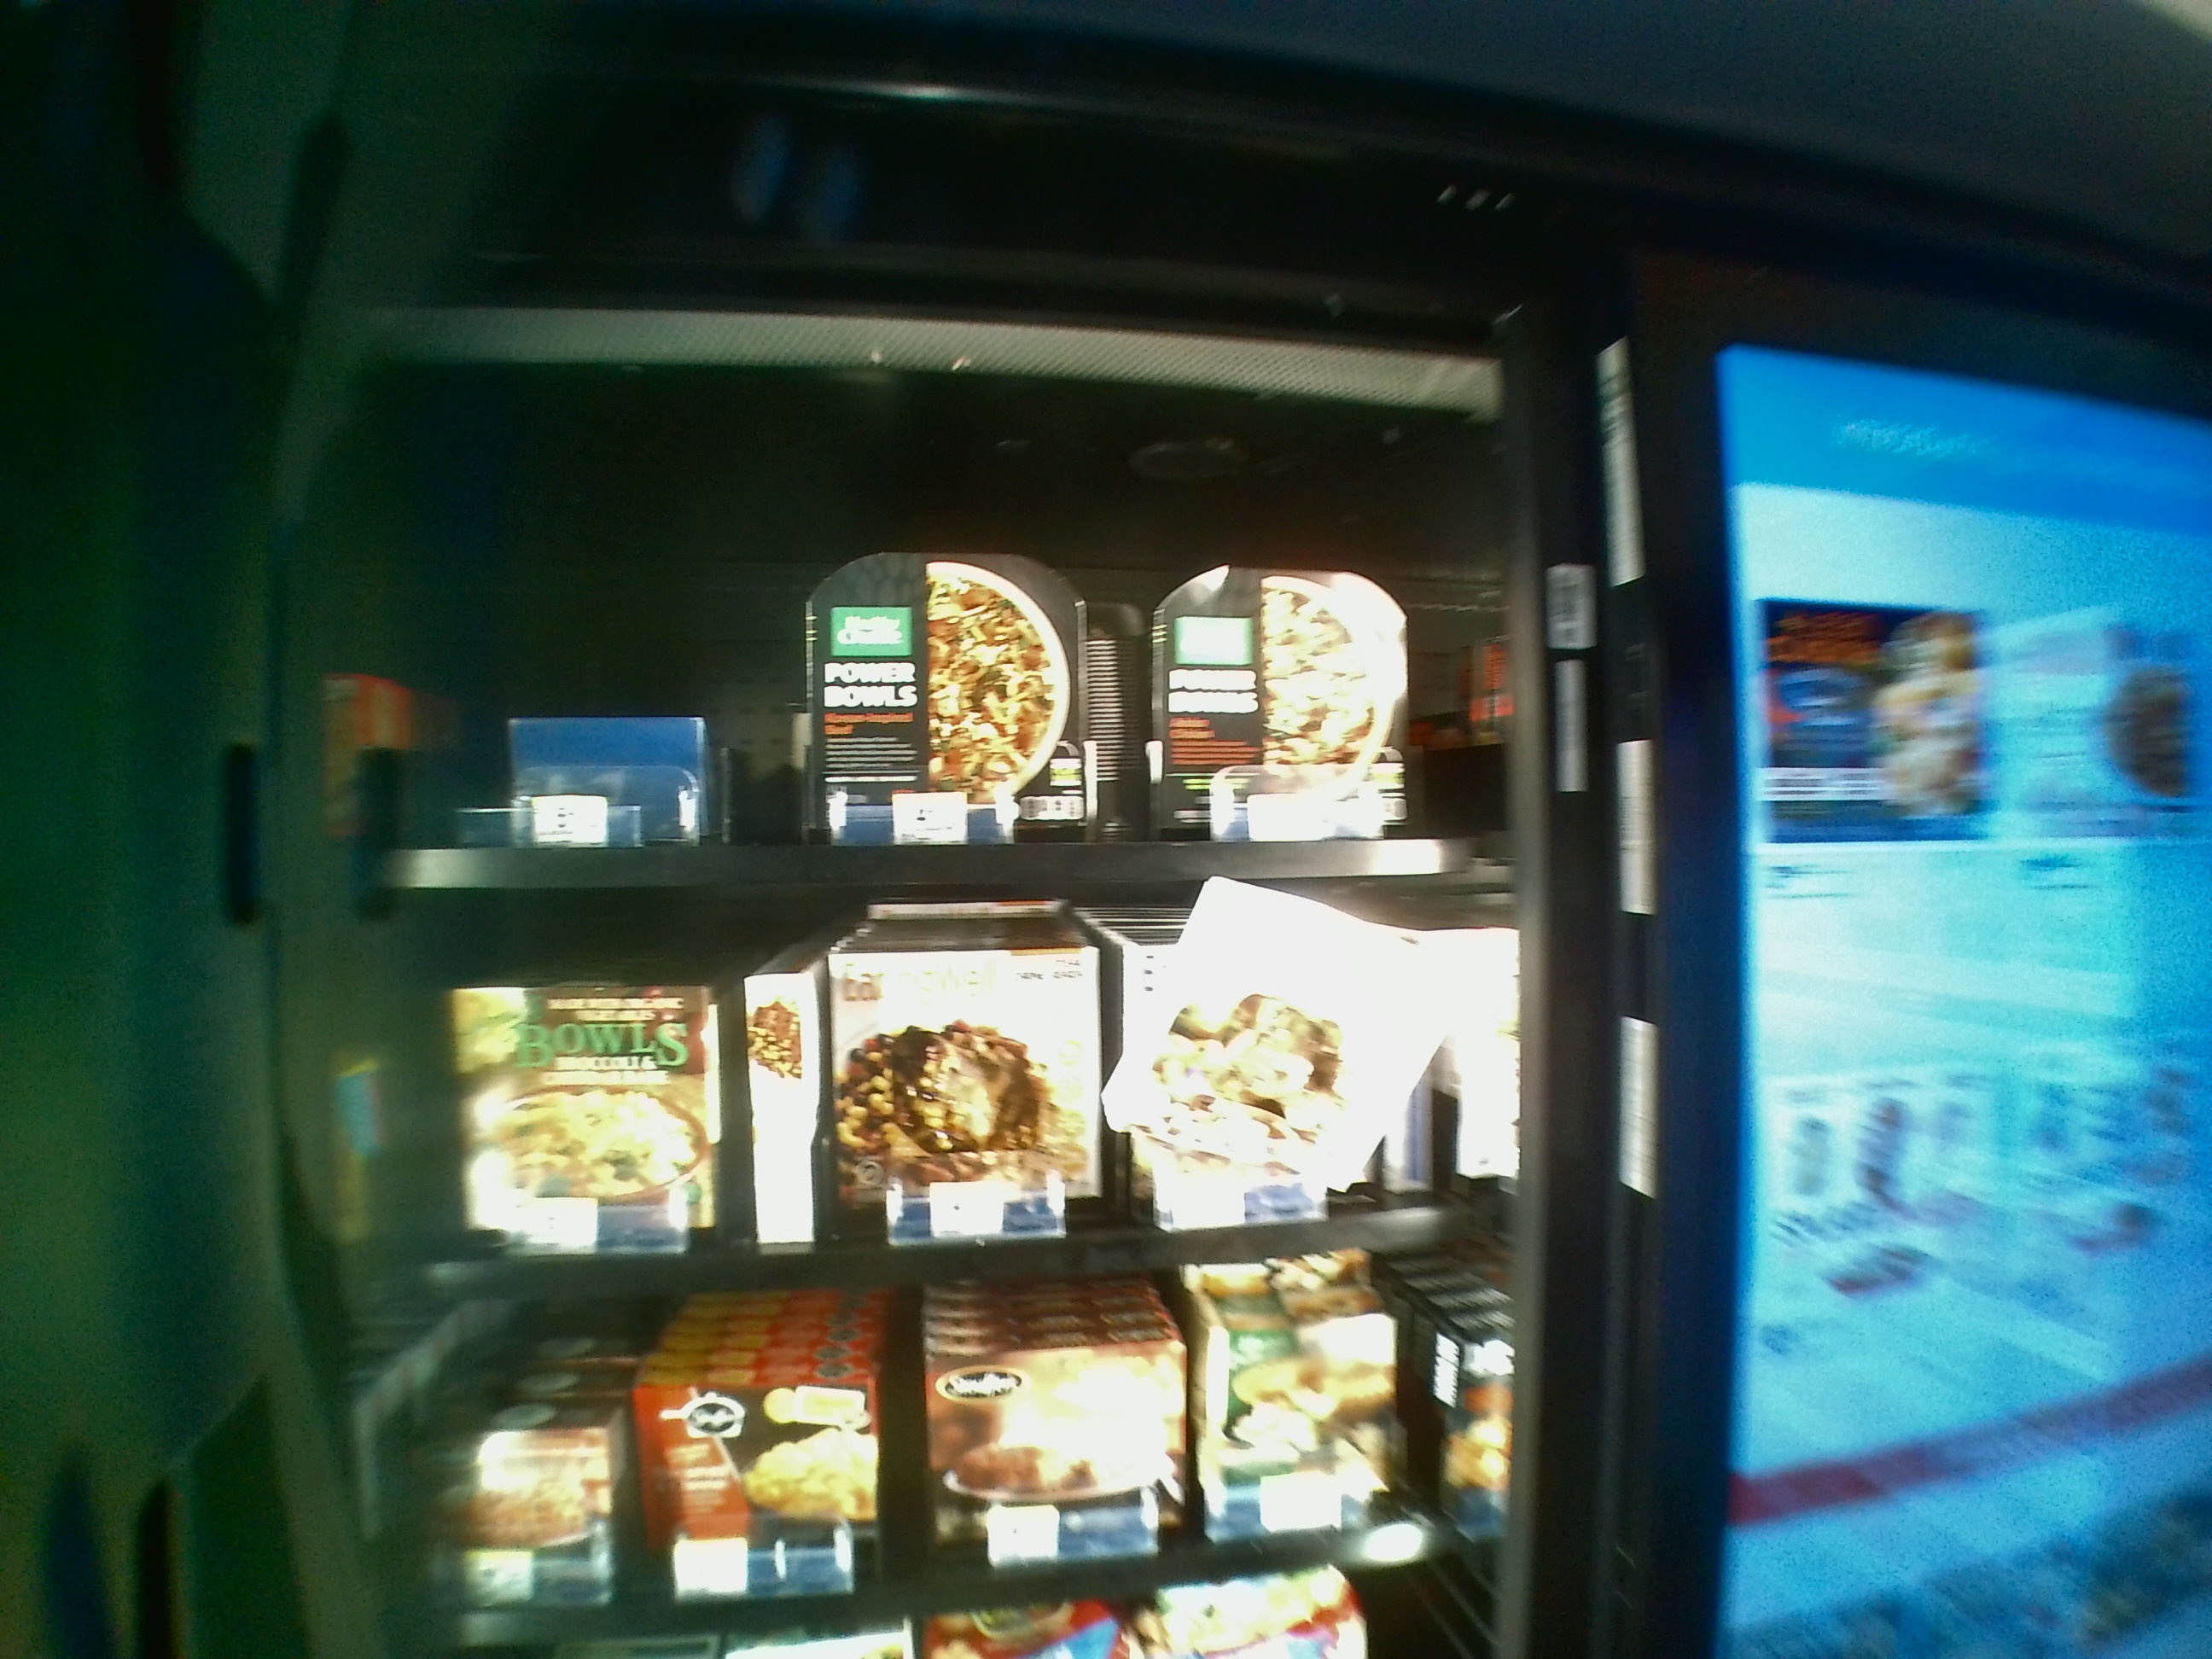shelf: (376, 410, 1501, 887), (374, 899, 1501, 1297)
